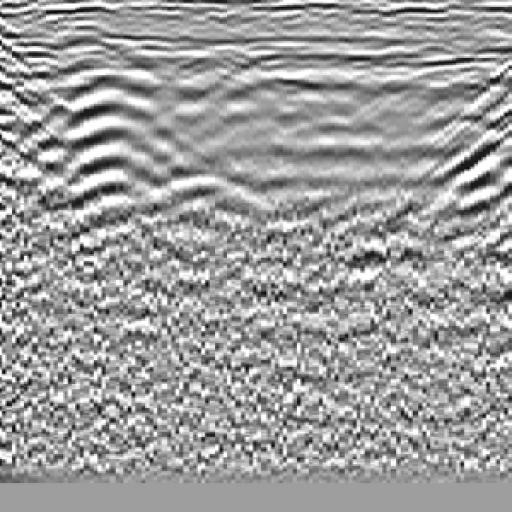metalic: (149, 29, 304, 259)
nonmetalic: (392, 40, 512, 257)
